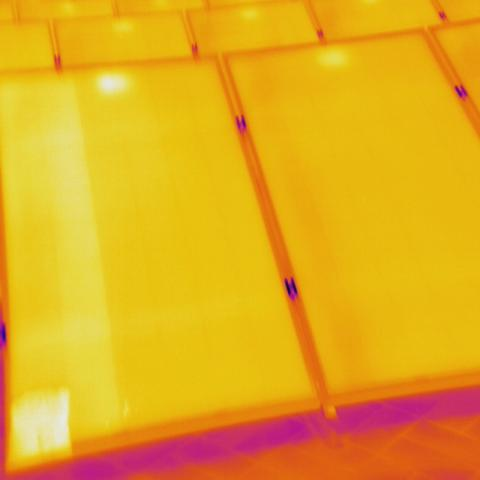fault: (6, 391, 82, 464), (97, 71, 133, 95), (316, 47, 351, 69)
